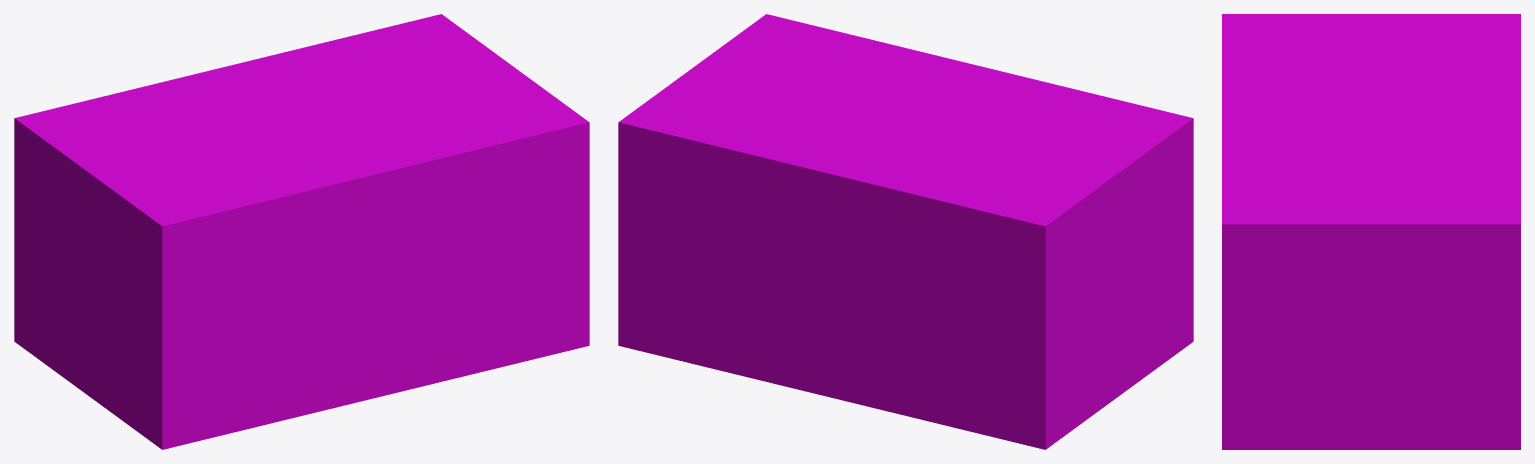
The model's file is sample_ladm_parcel.glb.
The picture shows the model from 3 angles, left to right: view 1: azimuth 30°, elevation 25°; view 2: azimuth 150°, elevation 25°; view 3: azimuth 270°, elevation 25°; orthographic projection.
Parts seen in each view (by area): view 1: MarinaBay_Commercial_Lot401; view 2: MarinaBay_Commercial_Lot401; view 3: MarinaBay_Commercial_Lot401.
Part boxes in pixels (x1=…): MarinaBay_Commercial_Lot401: x1=14, y1=14, x2=589, y2=449; MarinaBay_Commercial_Lot401: x1=618, y1=14, x2=1193, y2=449; MarinaBay_Commercial_Lot401: x1=1222, y1=14, x2=1520, y2=449.
Bounding box in the file's own units: 50 × 25 × 30.
